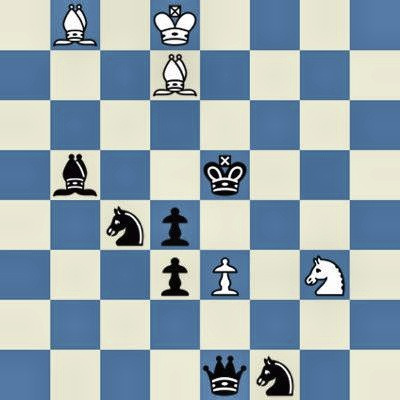black-bishop: (50, 150, 100, 200)
black-king: (200, 150, 250, 200)
black-knight: (100, 200, 150, 250), (250, 350, 300, 400)
black-pawn: (150, 200, 200, 250), (150, 250, 200, 300)
black-queen: (200, 350, 250, 400)
white-bishop: (50, 0, 100, 50), (150, 50, 200, 100)
white-king: (150, 0, 200, 50)
white-knight: (300, 250, 350, 300)
white-pawn: (200, 250, 250, 300)
